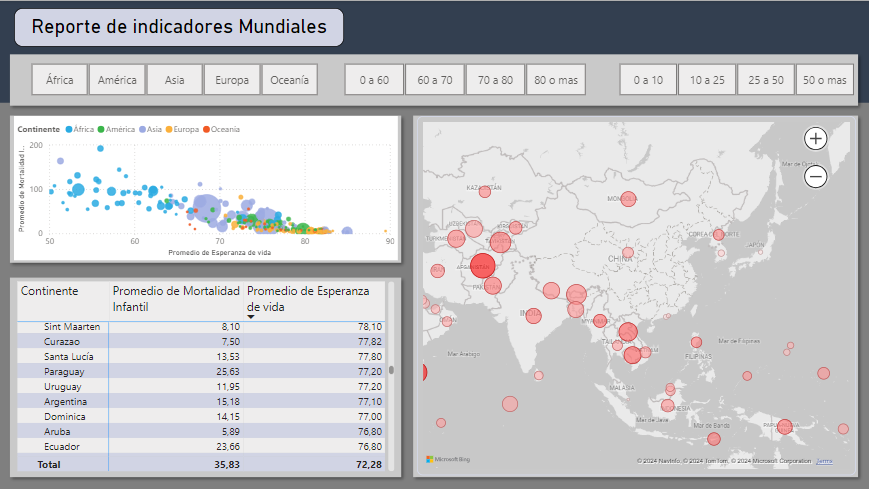

Layout of this report page (visuals, bound fields, positions):
{"tool":"powerbi","page":{"name":"Reporte Indicadores","canvas":[1280,720],"ordinal":1},"visuals":[{"type":"map","fields":{"Category":["Paises.Pais"],"Size":["Avg(Infant death rate.Mortalidad Infantil)"]},"box":[614.2,170.4,645.1,527.5],"z":0},{"type":"pivotTable","fields":{"Rows":["Paises.Continente","Paises.Pais"],"Values":["Avg(Infant death rate.Mortalidad Infantil)","Avg(Life expectancy.Esperanza de vida)"]},"box":[22,408.5,564.2,289.5],"z":1},{"type":"scatterChart","fields":{"X":["Avg(Life expectancy.Esperanza de vida)"],"Y":["Avg(Infant death rate.Mortalidad Infantil)"],"Category":["Paises.Pais"],"Series":["Paises.Continente"],"Size":["Sum(Population.Population)"]},"box":[22,170.4,564.2,211.6],"z":2},{"type":"textbox","box":[22,11.8,484.9,57.3],"z":3},{"type":"slicer","title":"Continente","fields":{"Values":["Paises.Continente"]},"box":[22,86.2,470.2,60.2],"z":4},{"type":"slicer","fields":{"Values":["Life expectancy.Grupos de Esperanza"]},"box":[482,86.2,404.1,60.2],"z":5},{"type":"slicer","fields":{"Values":["Infant death rate.Grupos de mortalidad"]},"box":[886,86.2,393.8,60.2],"z":6}]}

Visuals, with their boxes in screenshot pixels (x1, y1, x2, y2), scaled from the page's 1280x720 canvas onto the 869x489 screenshot:
map - Paises.Pais x Avg(Infant death rate.Mortalidad Infantil): (left=417, top=116, right=855, bottom=474)
pivotTable - Paises.Continente x Paises.Pais: (left=15, top=277, right=398, bottom=474)
scatterChart - Avg(Life expectancy.Esperanza de vida) x Avg(Infant death rate.Mortalidad Infantil): (left=15, top=116, right=398, bottom=259)
textbox: (left=15, top=8, right=344, bottom=47)
"Continente" slicer: (left=15, top=59, right=334, bottom=99)
slicer - Life expectancy.Grupos de Esperanza: (left=327, top=59, right=602, bottom=99)
slicer - Infant death rate.Grupos de mortalidad: (left=602, top=59, right=868, bottom=99)
